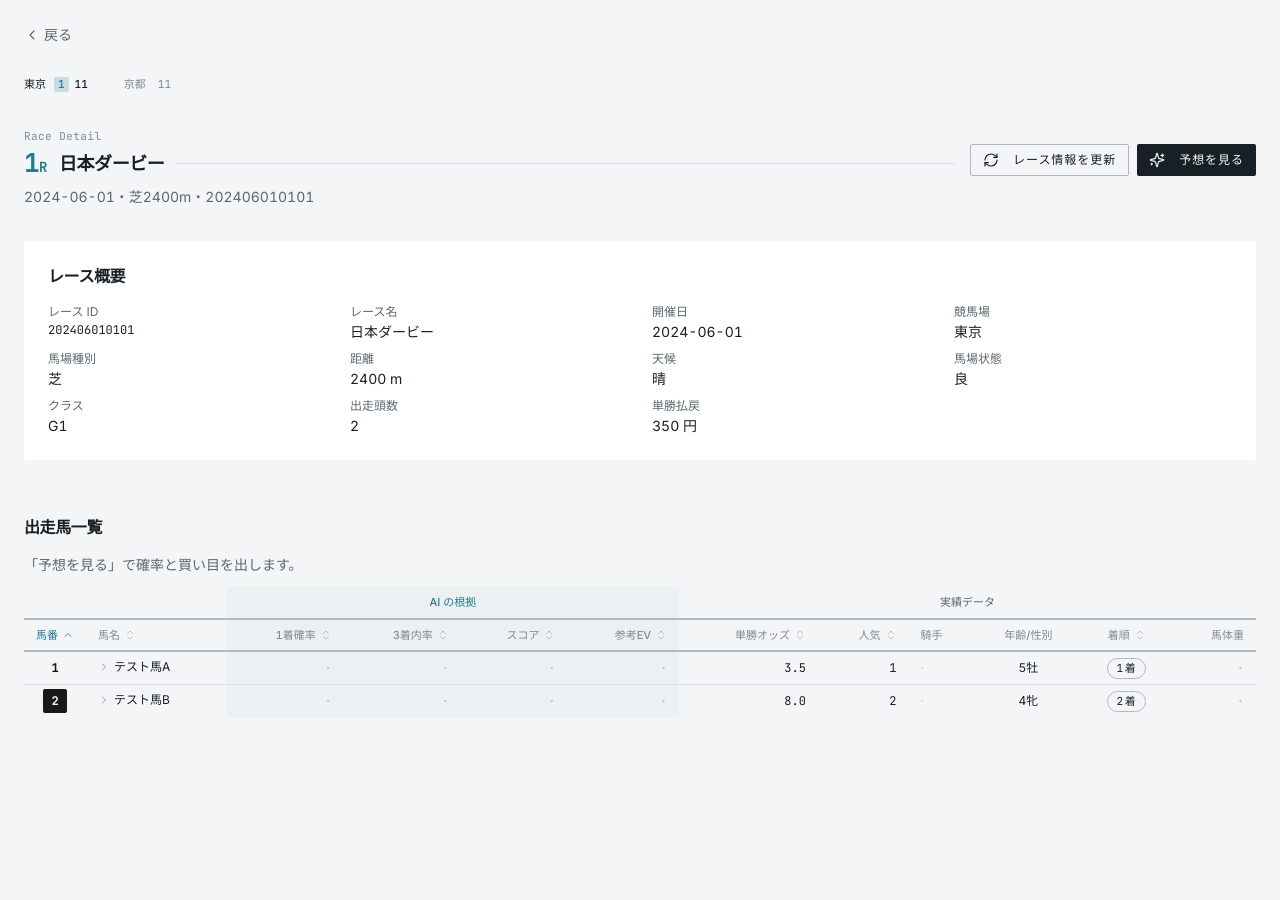
Test: RaceDetail — 答え合わせ › 推奨買目をすべて買った場合の収支を券種別に出す
The image size is (1280, 900).
Expected: the heading "出走馬一覧" is shown, [24,516,102,538]
Click the button "予想を見る". click: (1197, 160)
box: [1137,144,1256,176]
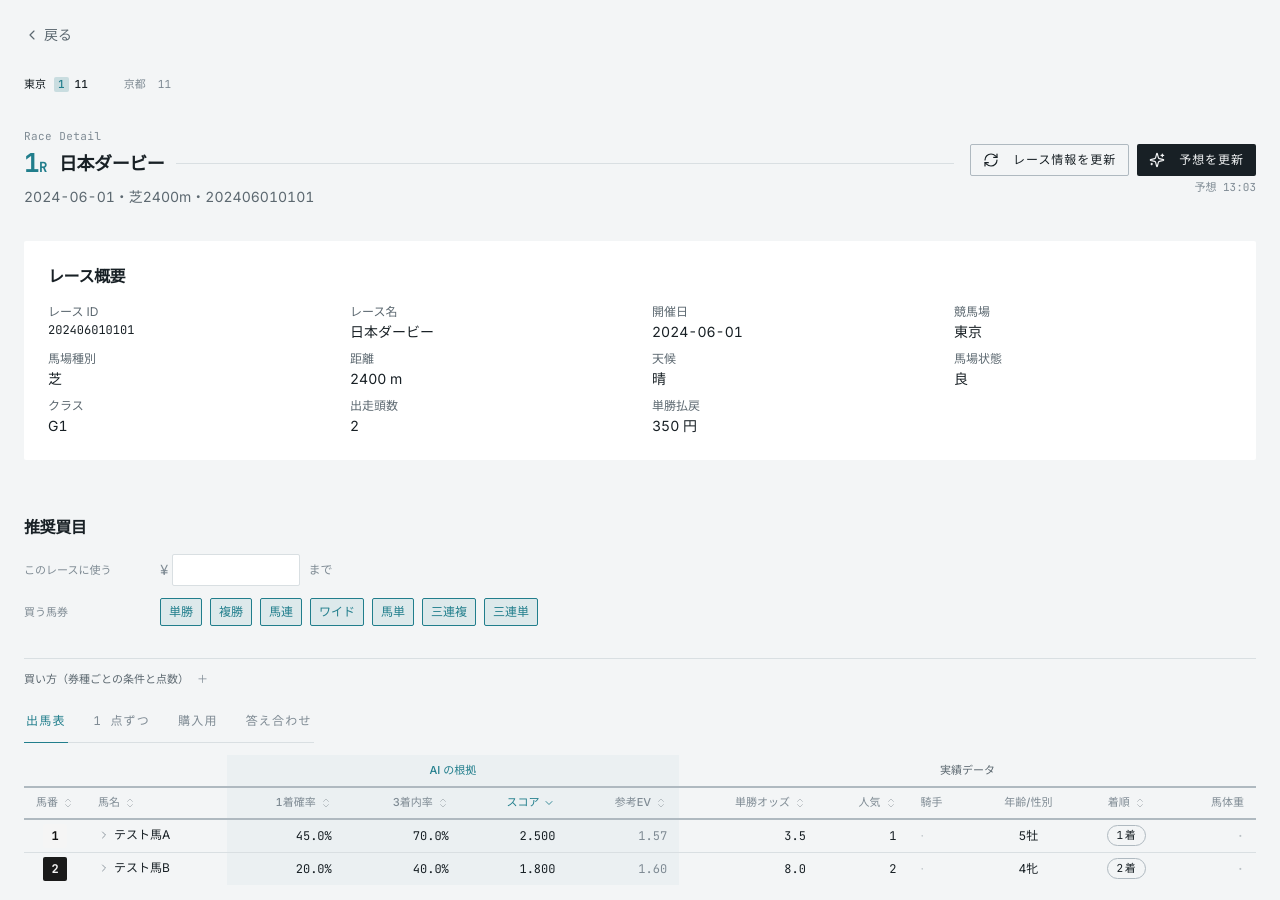
# 答え合わせは推奨買目のタブの 1 つ (買い目と同じ場所で振り返る)
Click the tab "答え合わせ". click: (279, 723)
box: [244,704,314,742]
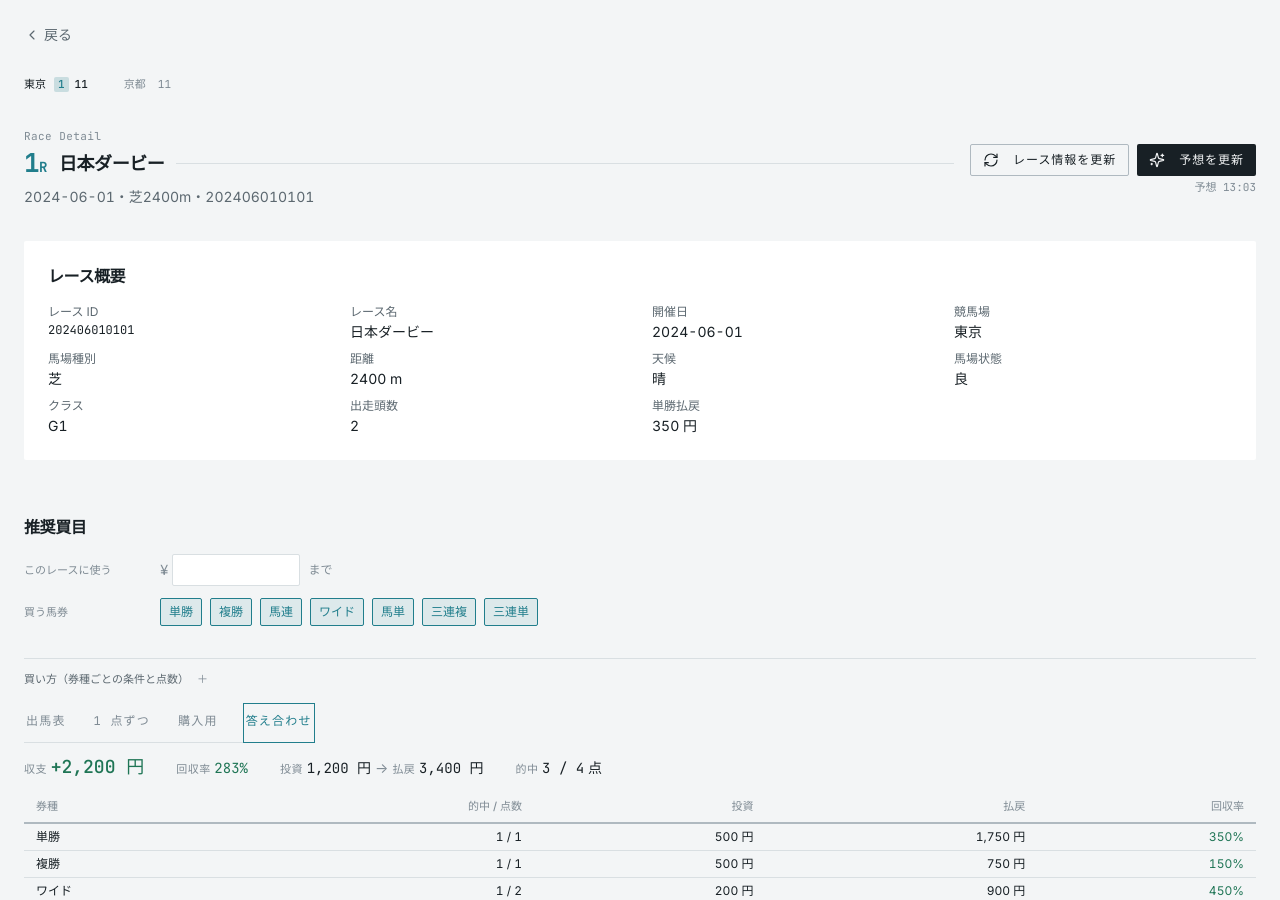
Expected: the text "283%" is shown, [214,759,248,777]
Expected: the text "+2,200 円" is shown, [51,755,144,778]
Expected: the text "1,200 円" is shown, [307,759,371,777]
